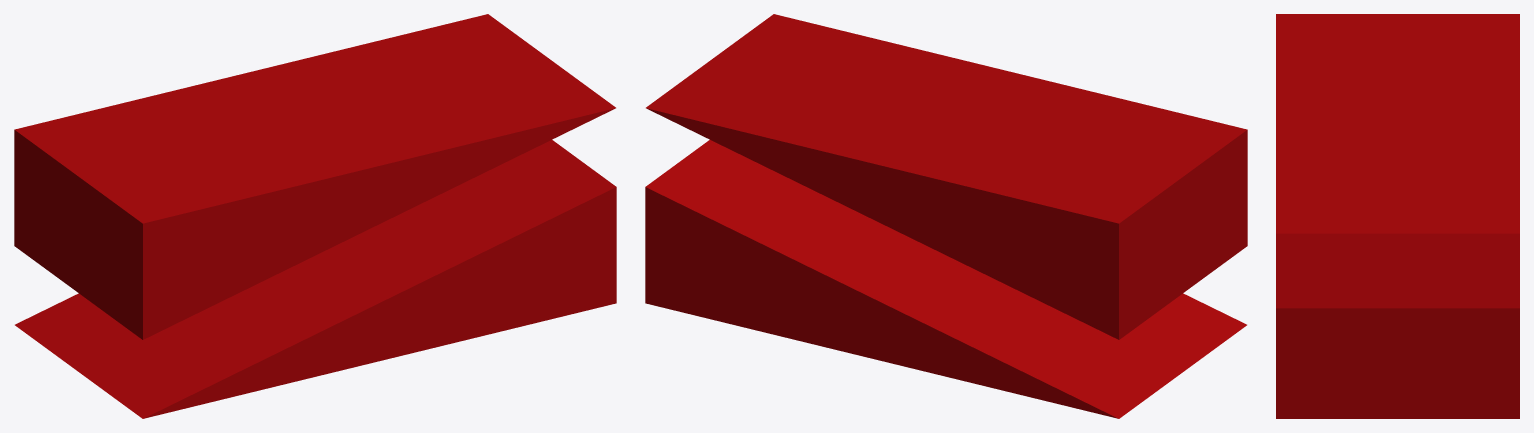
The model's file is ramp.dae.
3 renders of one model, left to right at view 1: azimuth 30°, elevation 25°; view 2: azimuth 150°, elevation 25°; view 3: azimuth 270°, elevation 25°, orthographic. The views are drawn at different scales.
Parts seen in each view (by area): view 1: instance_0; view 2: instance_0; view 3: instance_0.
Part boxes in pixels (x1,y1,x2,y2): instance_0: [14, 14, 616, 418]; instance_0: [645, 14, 1247, 418]; instance_0: [1276, 14, 1519, 418].
Size of the model in its own units: 6.6 by 3.1 by 2.6.
